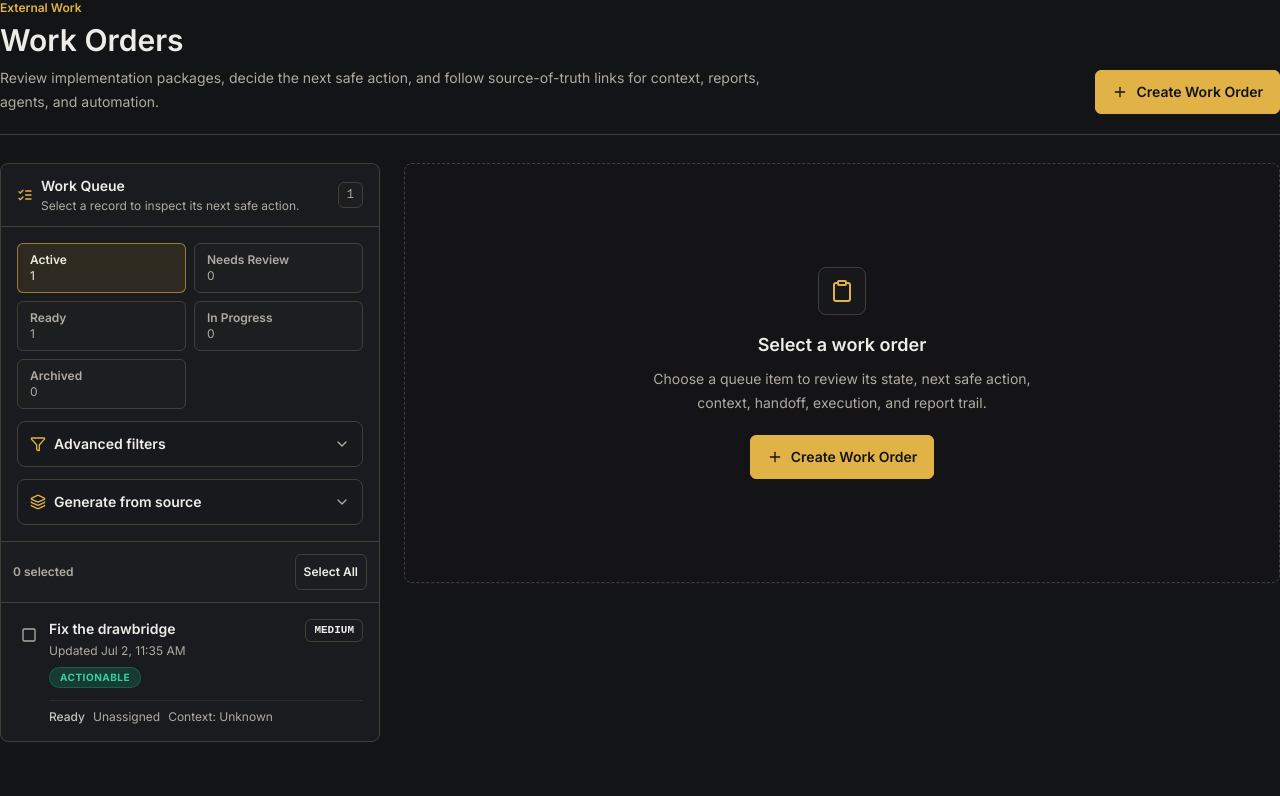
it: WorkOrdersPage — Project Context (M17E-2) › shows Refresh Context guidance when context is STALE but localDocsChanged is false
The width and height of the screenshot is (1280, 796).
Step 1. Click the heading "Fix the drawbridge" → (117, 629), box [49, 619, 186, 639]
(page scrolled)
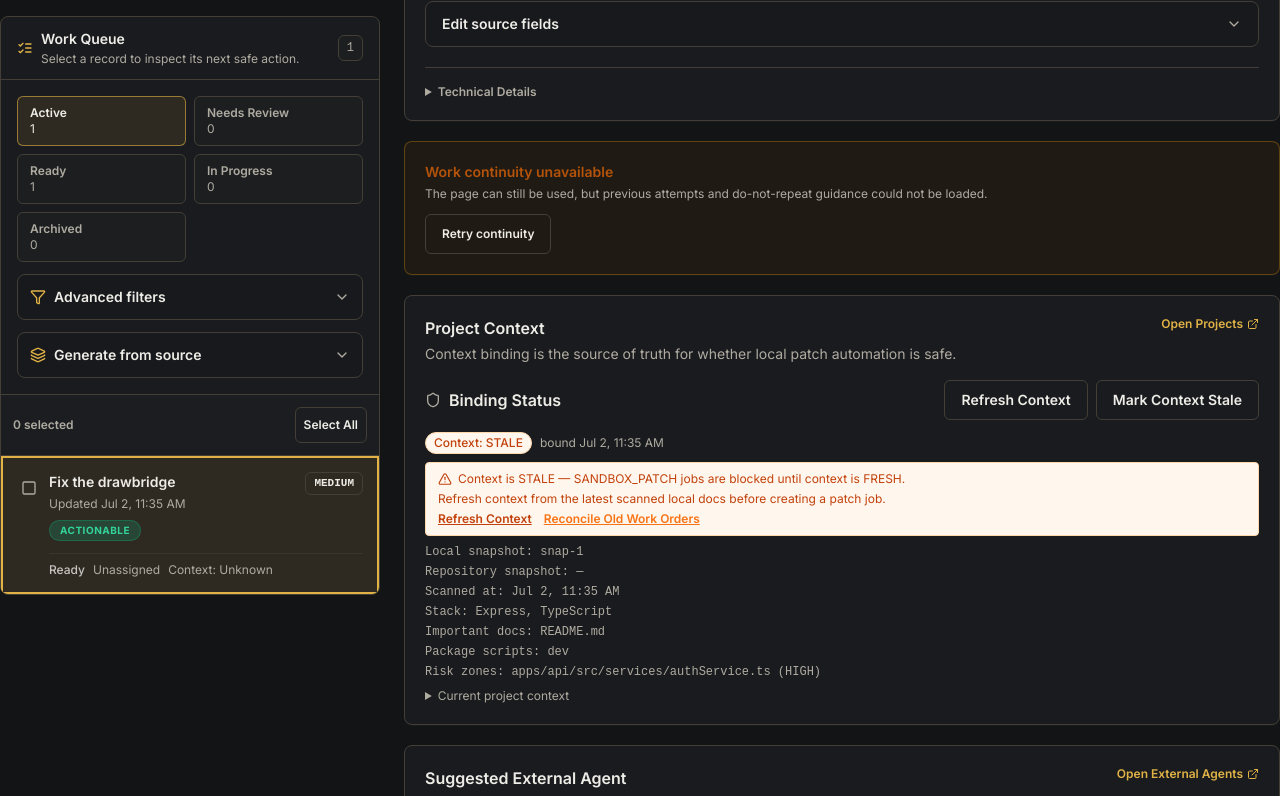
Expected: the text "Context is STALE — SANDBOX_PATCH jobs are blocked" is shown, [438, 471, 905, 486]
Expected: the button "Refresh Context" in the row of "Binding Status" is shown, [944, 380, 1088, 420]
